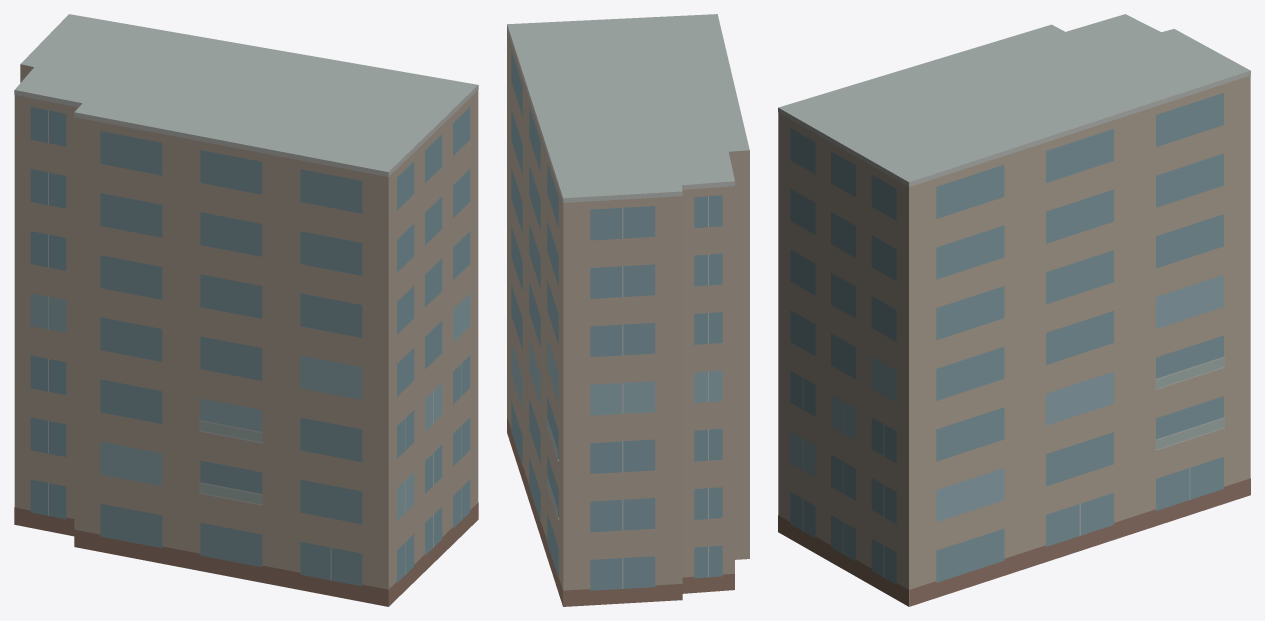
Rendered from survey-upis-32689123.glb.
The picture shows the model from 3 angles, left to right: view 1: azimuth 30°, elevation 25°; view 2: azimuth 150°, elevation 25°; view 3: azimuth 270°, elevation 25°; orthographic projection. The views are drawn at different scales.
Parts seen in each view (by area): view 1: survey-upis-32689123.tmp; view 2: survey-upis-32689123.tmp; view 3: survey-upis-32689123.tmp.
Boxes of the visible parts, box(x1,y1,x2,y2) form: survey-upis-32689123.tmp: box(14, 14, 478, 606); survey-upis-32689123.tmp: box(507, 14, 749, 606); survey-upis-32689123.tmp: box(778, 14, 1250, 606).
Size of the model in its own units: 18.16 by 21.35 by 21.55.
